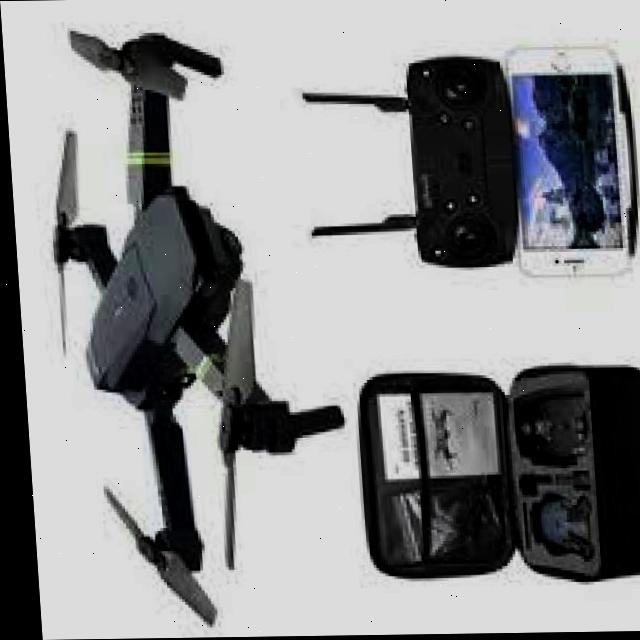drone: (22, 4, 352, 640)
